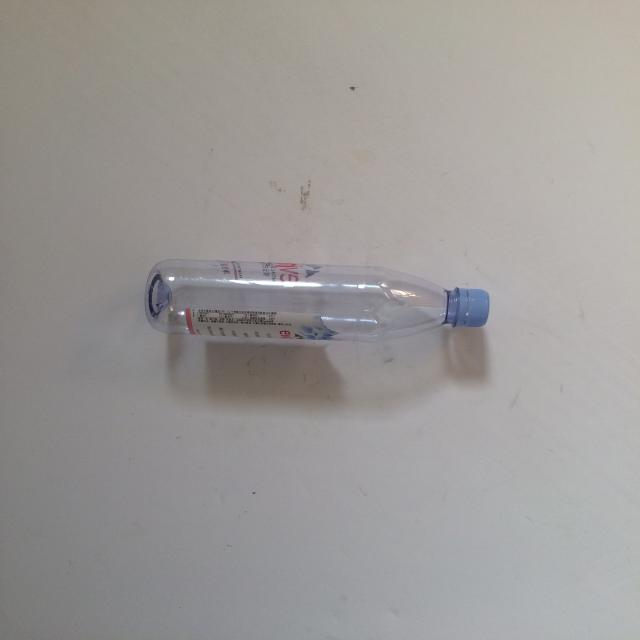plastic: (143, 258, 490, 342)
